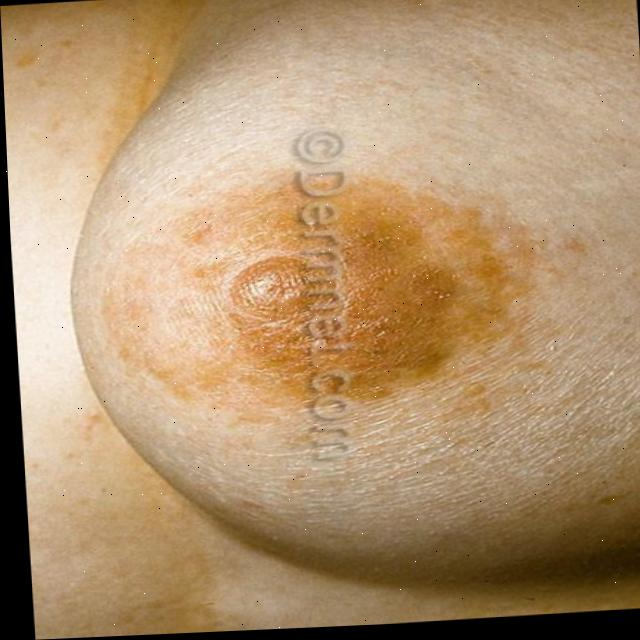Eczema: (112, 154, 541, 420)
